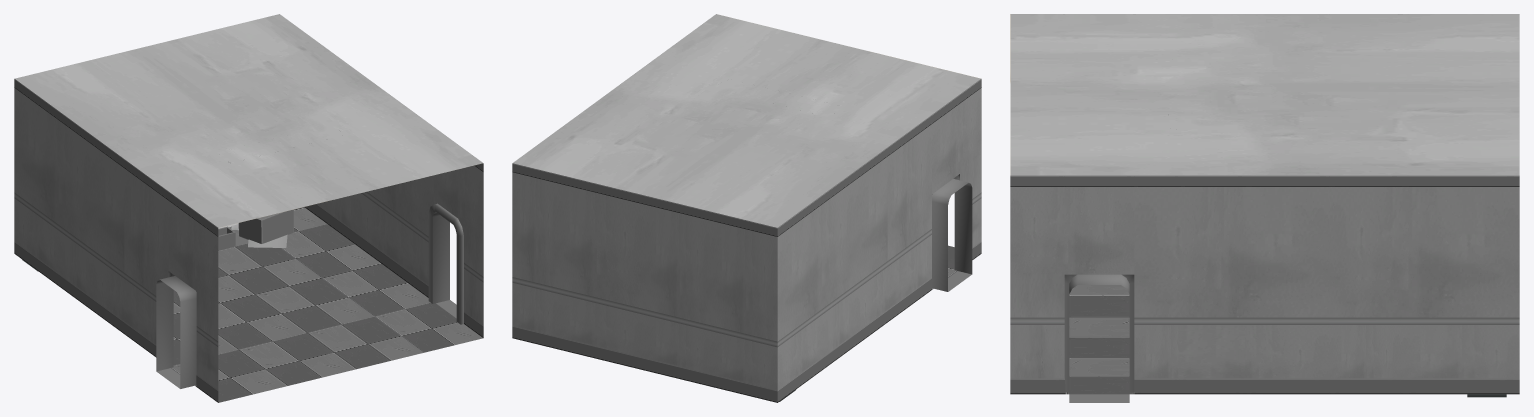
File: MSH_QuestRobCo_L2_R1_optimized.fbx
3 renders of one model, left to right at view 1: azimuth 30°, elevation 25°; view 2: azimuth 150°, elevation 25°; view 3: azimuth 270°, elevation 25°, orthographic. The views are drawn at different scales.
Visible parts, largest first — view 1: lightmap7, lightmap8, lightmap0, lightmap3; view 2: lightmap8, lightmap7, lightmap0; view 3: lightmap8, lightmap7, lightmap0.
Boxes of the visible parts, box(x1,y1,x2,y2) form: lightmap7: box(15, 14, 482, 402); lightmap8: box(14, 79, 483, 402); lightmap0: box(156, 203, 463, 388); lightmap3: box(22, 209, 293, 271); lightmap8: box(512, 79, 981, 402); lightmap7: box(513, 14, 980, 289); lightmap0: box(932, 174, 972, 291); lightmap8: box(1010, 175, 1519, 394); lightmap7: box(1010, 14, 1519, 394); lightmap0: box(1064, 274, 1134, 402).
Size of the model in its own units: 10.3 by 6.01 by 12.38.
3 materials, 3 textured.
